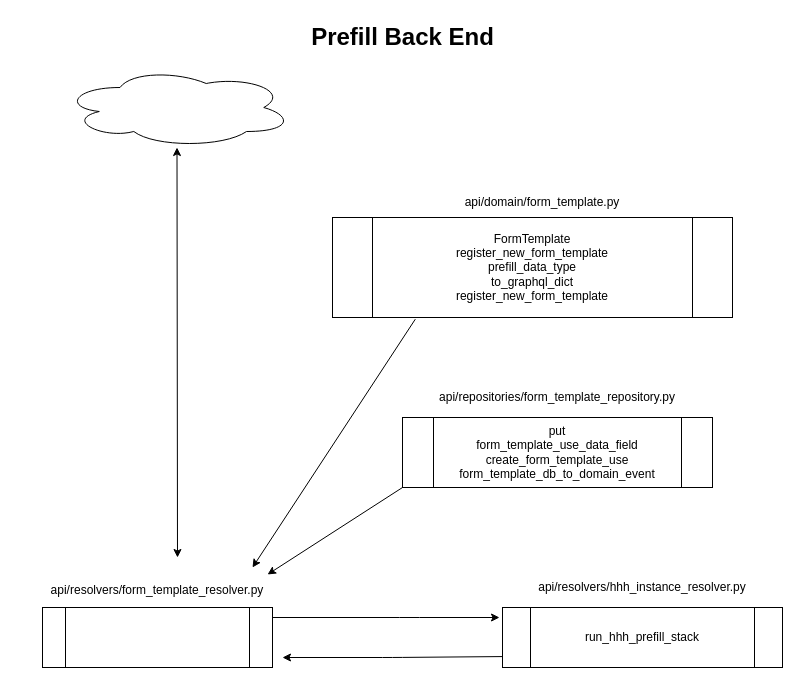
The diagram is 800 pixels wide and 685 high, and some of its shapes have lost their labels. Here are the shapes that lost their labels. From the top down, the box of each, then its label:
(62, 66, 292, 148): graphql network request
(42, 606, 272, 668): GetFormTemplateByShortName
